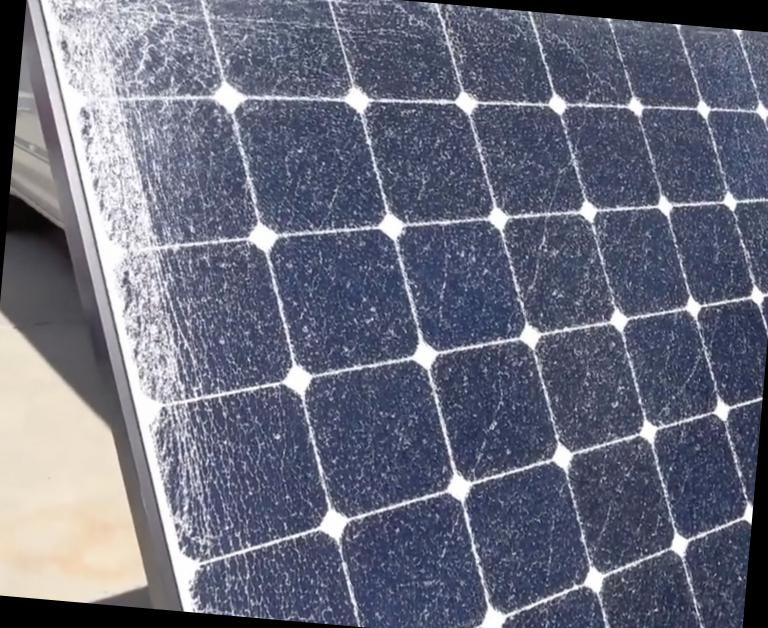Crack: (0, 0, 767, 627), (22, 0, 208, 103)
